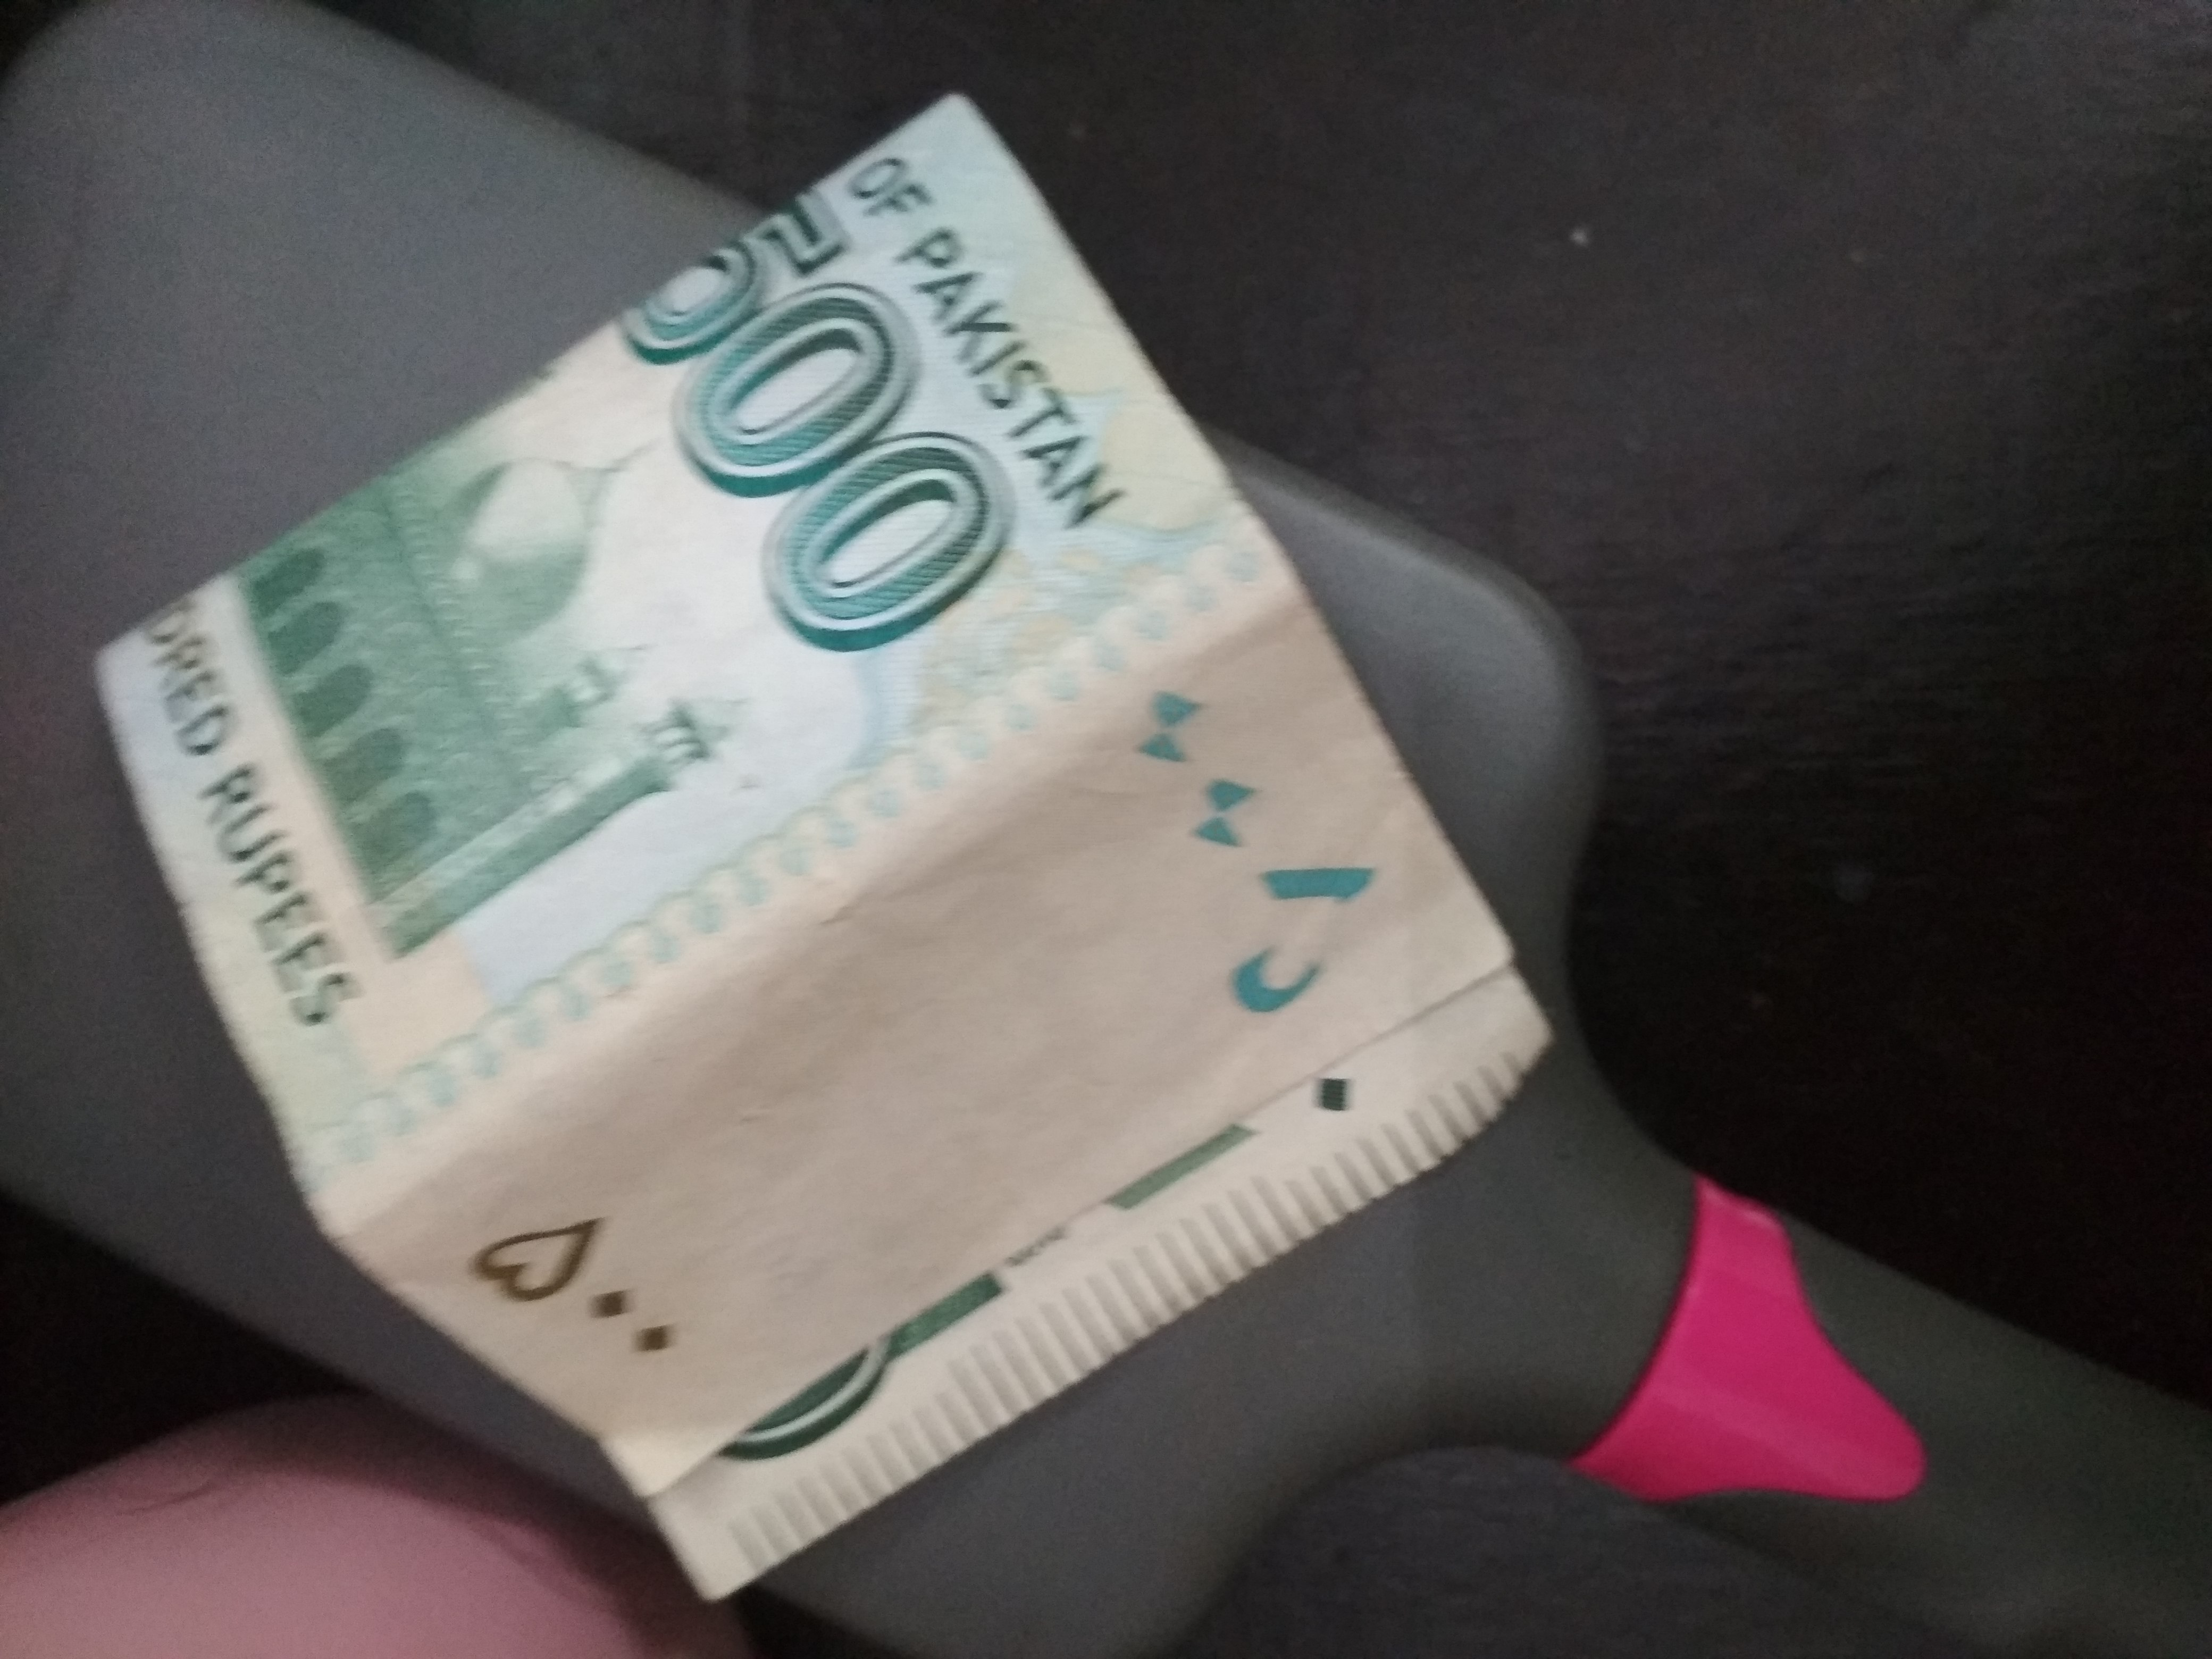500 rupee: (75, 106, 1536, 1532)
